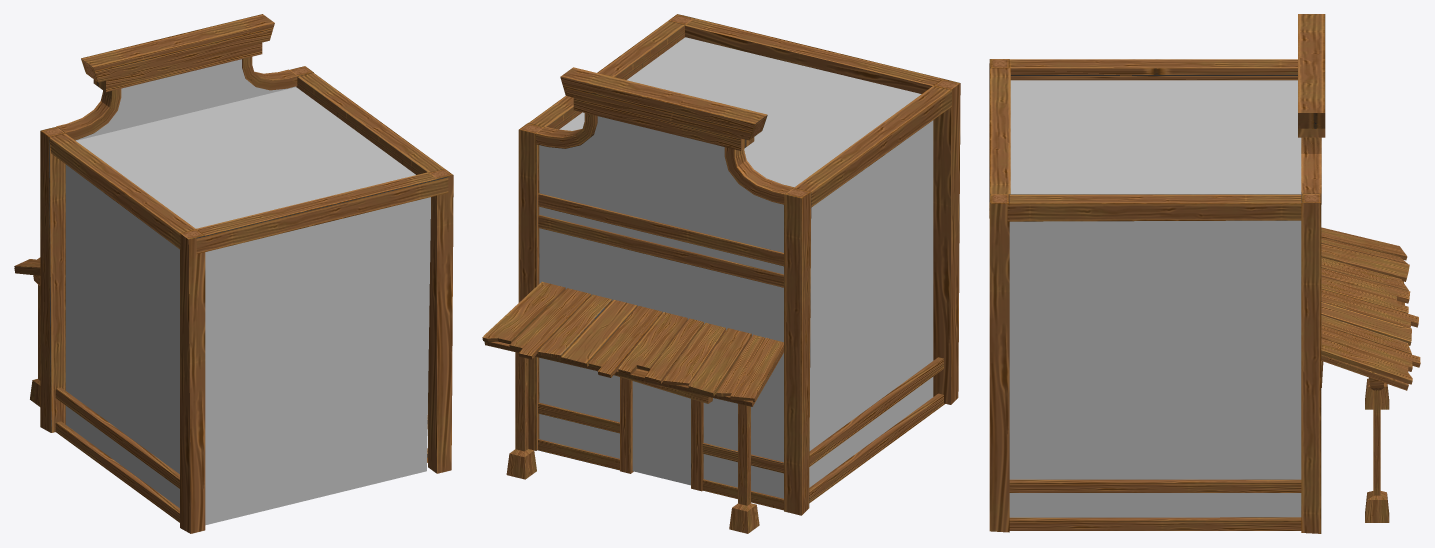
The model's file is test_house_tex.fbx.
The picture shows the model from 3 angles, left to right: view 1: azimuth 30°, elevation 25°; view 2: azimuth 150°, elevation 25°; view 3: azimuth 270°, elevation 25°; orthographic projection. The views are drawn at different scales.
Visible parts, largest first — view 1: Cube.149_woodwall, Cube.149_wood_trim; view 2: Cube.149_woodwall, Cube.149_wood_trim; view 3: Cube.149_woodwall, Cube.149_wood_trim.
Part boxes in pixels (x1,y1,x2,y2): Cube.149_woodwall: [65, 59, 430, 525]; Cube.149_wood_trim: [14, 14, 453, 533]; Cube.149_woodwall: [539, 37, 933, 498]; Cube.149_wood_trim: [482, 14, 960, 533]; Cube.149_woodwall: [1009, 80, 1301, 517]; Cube.149_wood_trim: [989, 14, 1420, 533].
Bounding box in the file's own units: 6.29 × 8.12 × 7.94.
